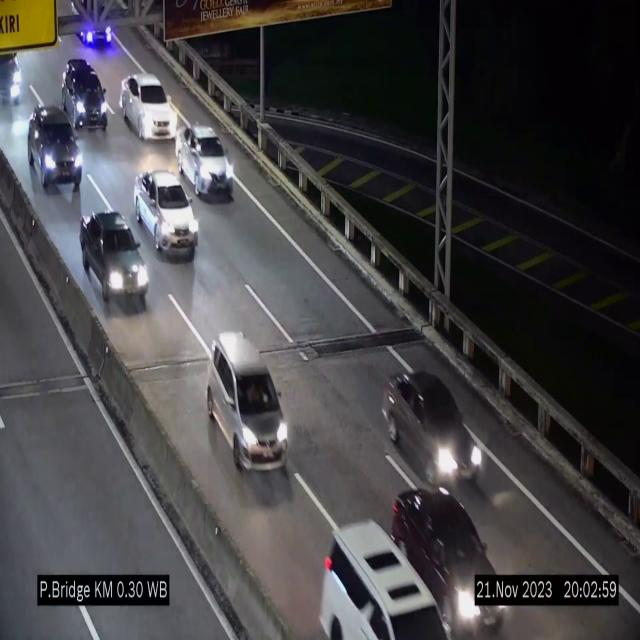Car: (386, 458, 508, 640), (314, 502, 444, 640), (205, 327, 287, 478), (384, 366, 484, 487), (80, 207, 148, 308), (23, 102, 85, 197), (134, 170, 199, 258), (176, 124, 232, 199), (61, 53, 110, 136), (120, 73, 176, 140), (0, 44, 34, 104)
